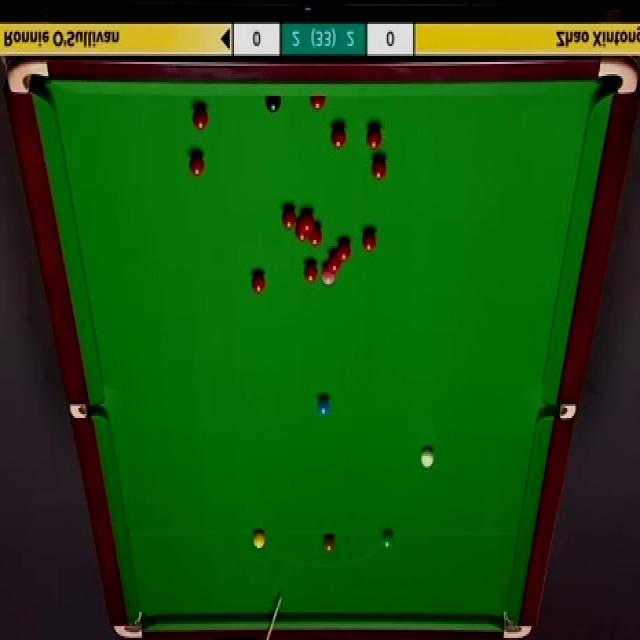black-ball: (265, 93, 281, 116)
blue-ball: (318, 396, 330, 415)
brown-ball: (323, 532, 335, 551)
green-ball: (380, 530, 395, 550)
pink-ball: (320, 266, 336, 288)
red-ball: (365, 124, 383, 152), (370, 155, 387, 182), (331, 125, 347, 152), (188, 153, 205, 178), (250, 270, 266, 296), (192, 107, 208, 132), (336, 236, 352, 261), (303, 261, 318, 285), (362, 229, 377, 253), (281, 208, 297, 230), (309, 225, 324, 248), (300, 211, 314, 235), (327, 254, 342, 272), (309, 96, 325, 111), (296, 225, 309, 243)
white-ball: (420, 446, 436, 470)
yellow-ball: (252, 530, 265, 552)
